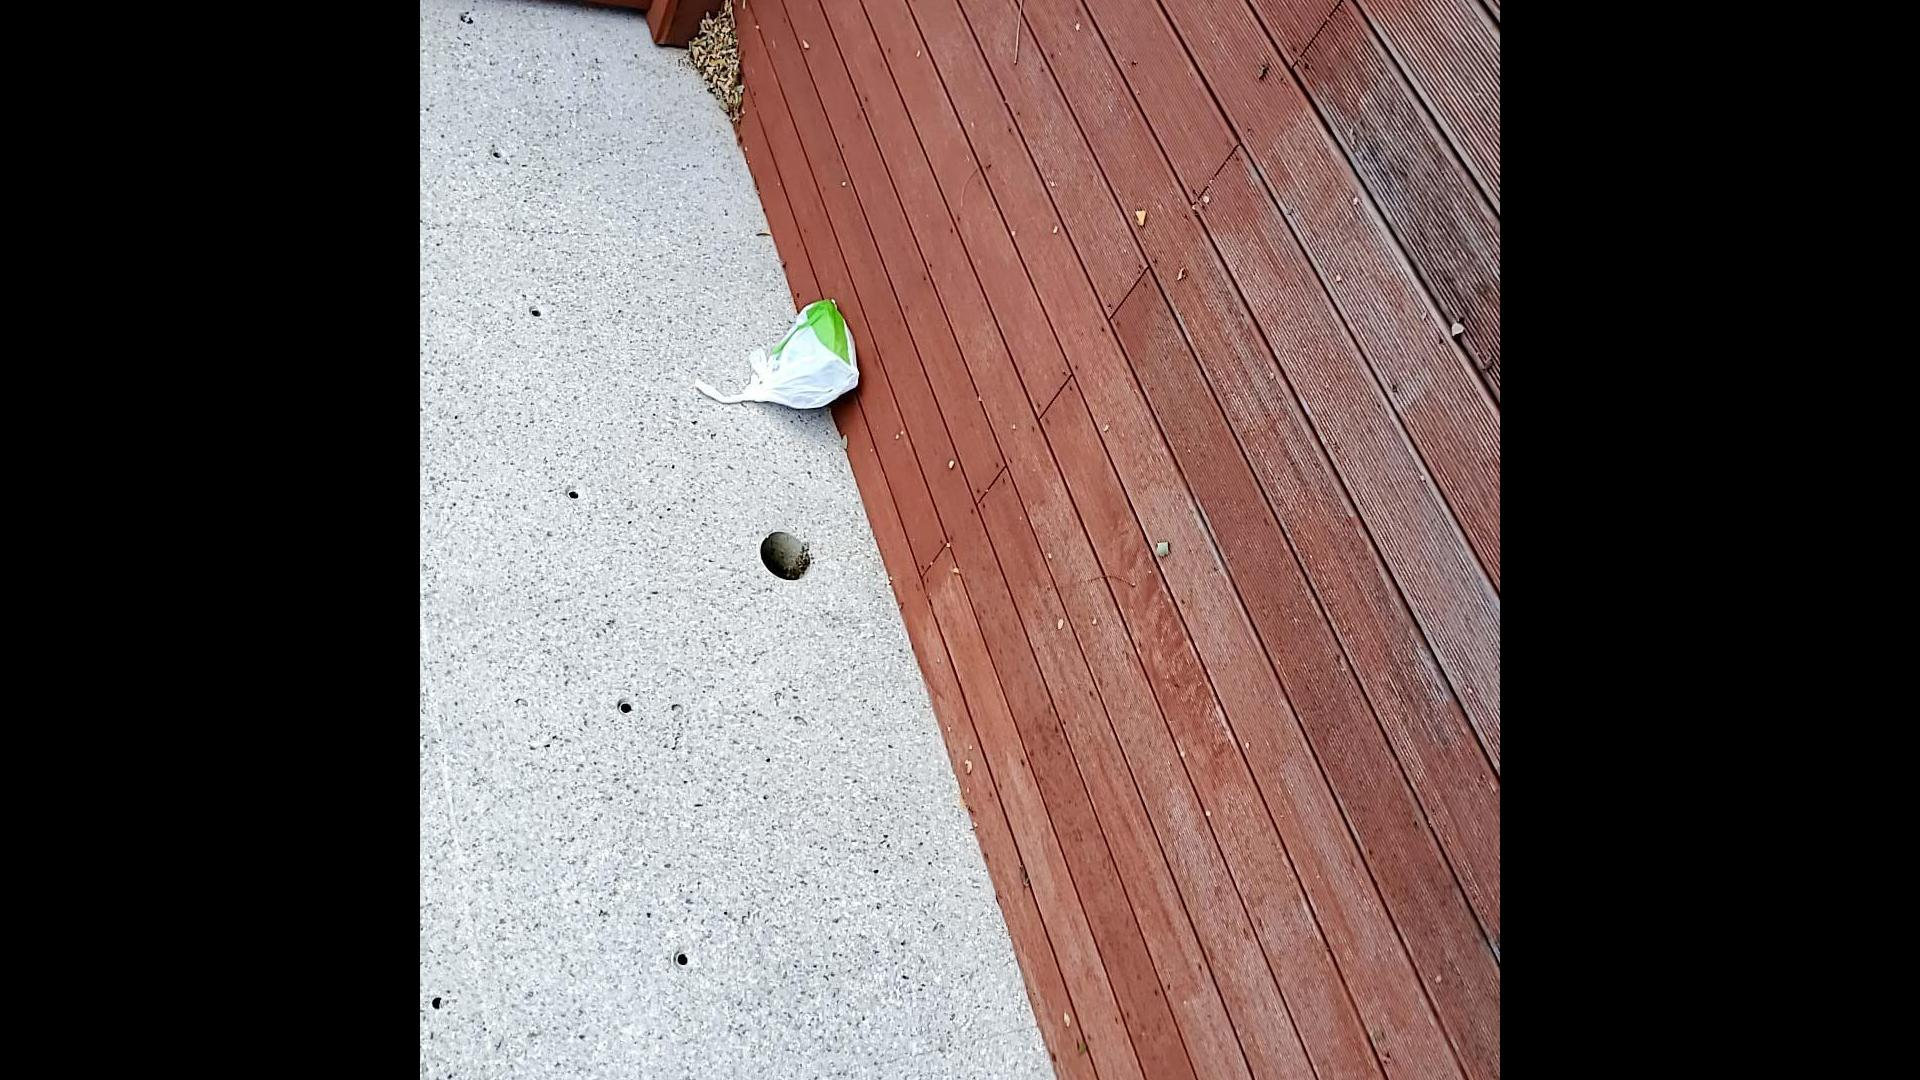white_bag: (686, 295, 861, 419)
